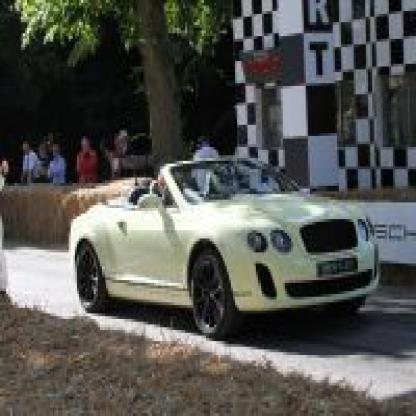Vehicle: (69, 152, 387, 336)
